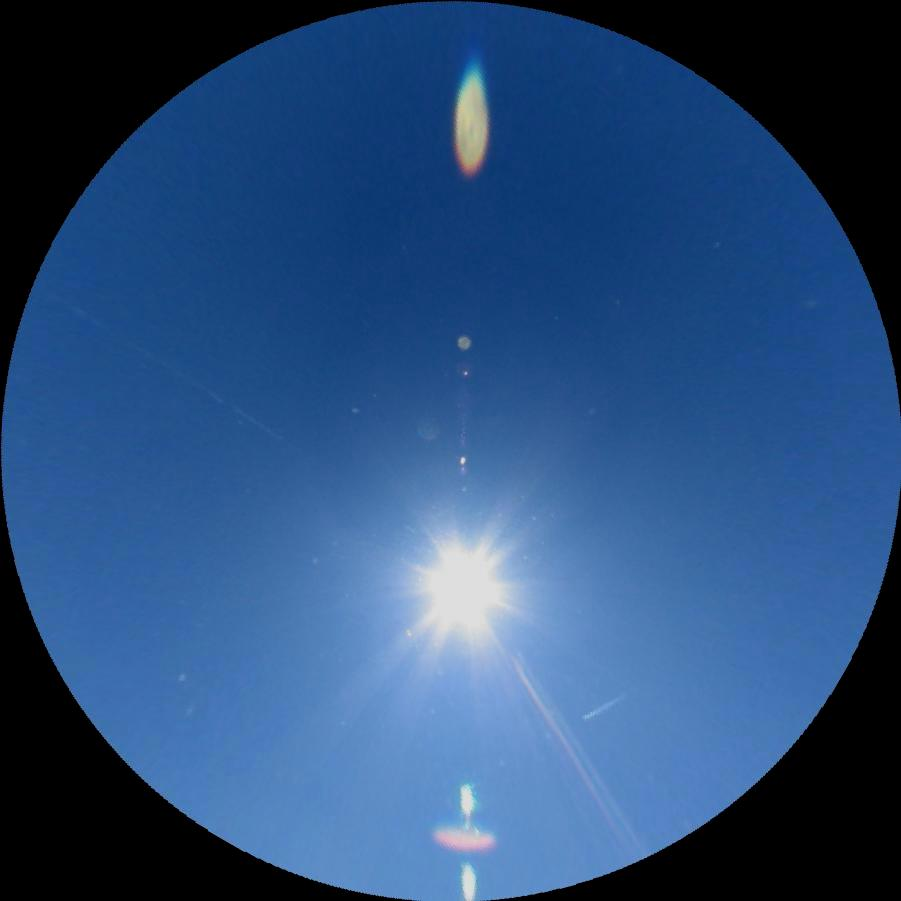contrail young: (578, 689, 628, 720)
parasite: (30, 283, 286, 443), (505, 651, 639, 862), (515, 648, 648, 854)
sun: (421, 541, 503, 630)
